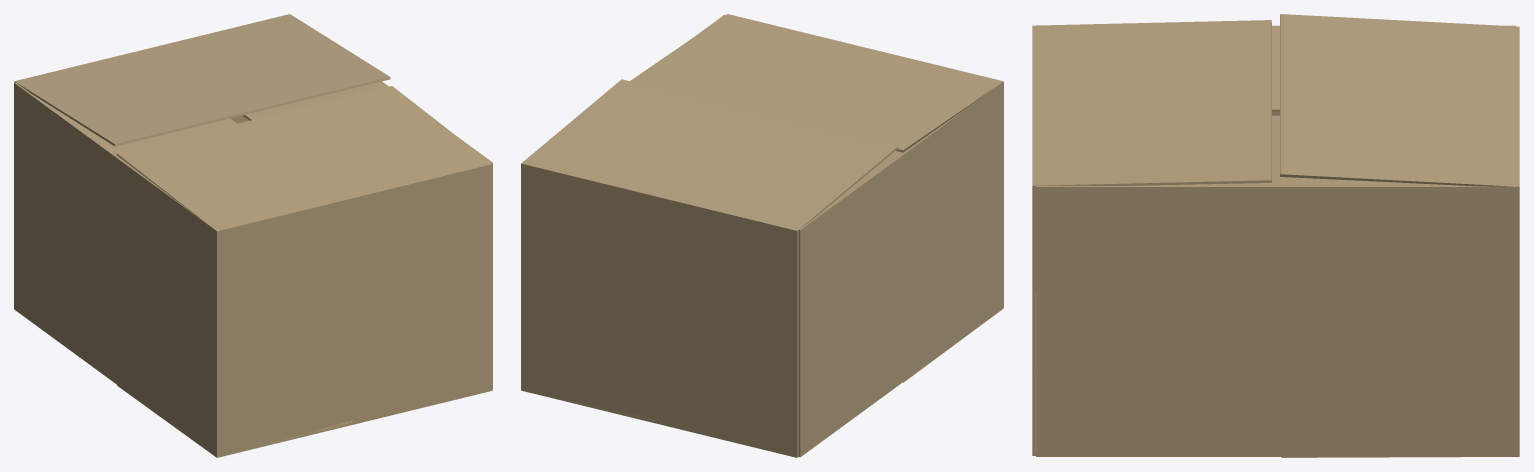
Rendered from CardboardBox1.1.fbx.
3 views of the same model, side by side, from view 1: azimuth 30°, elevation 25°; view 2: azimuth 150°, elevation 25°; view 3: azimuth 270°, elevation 25° (orthographic). The views are drawn at different scales.
Visible parts, largest first — view 1: CardboarBox1.1; view 2: CardboarBox1.1; view 3: CardboarBox1.1.
Part boxes in pixels (x1,y1,x2,y2): CardboarBox1.1: [14, 14, 492, 457]; CardboarBox1.1: [521, 14, 1003, 457]; CardboarBox1.1: [1032, 14, 1519, 457].
Size of the model in its own units: 164 by 135 by 210.
